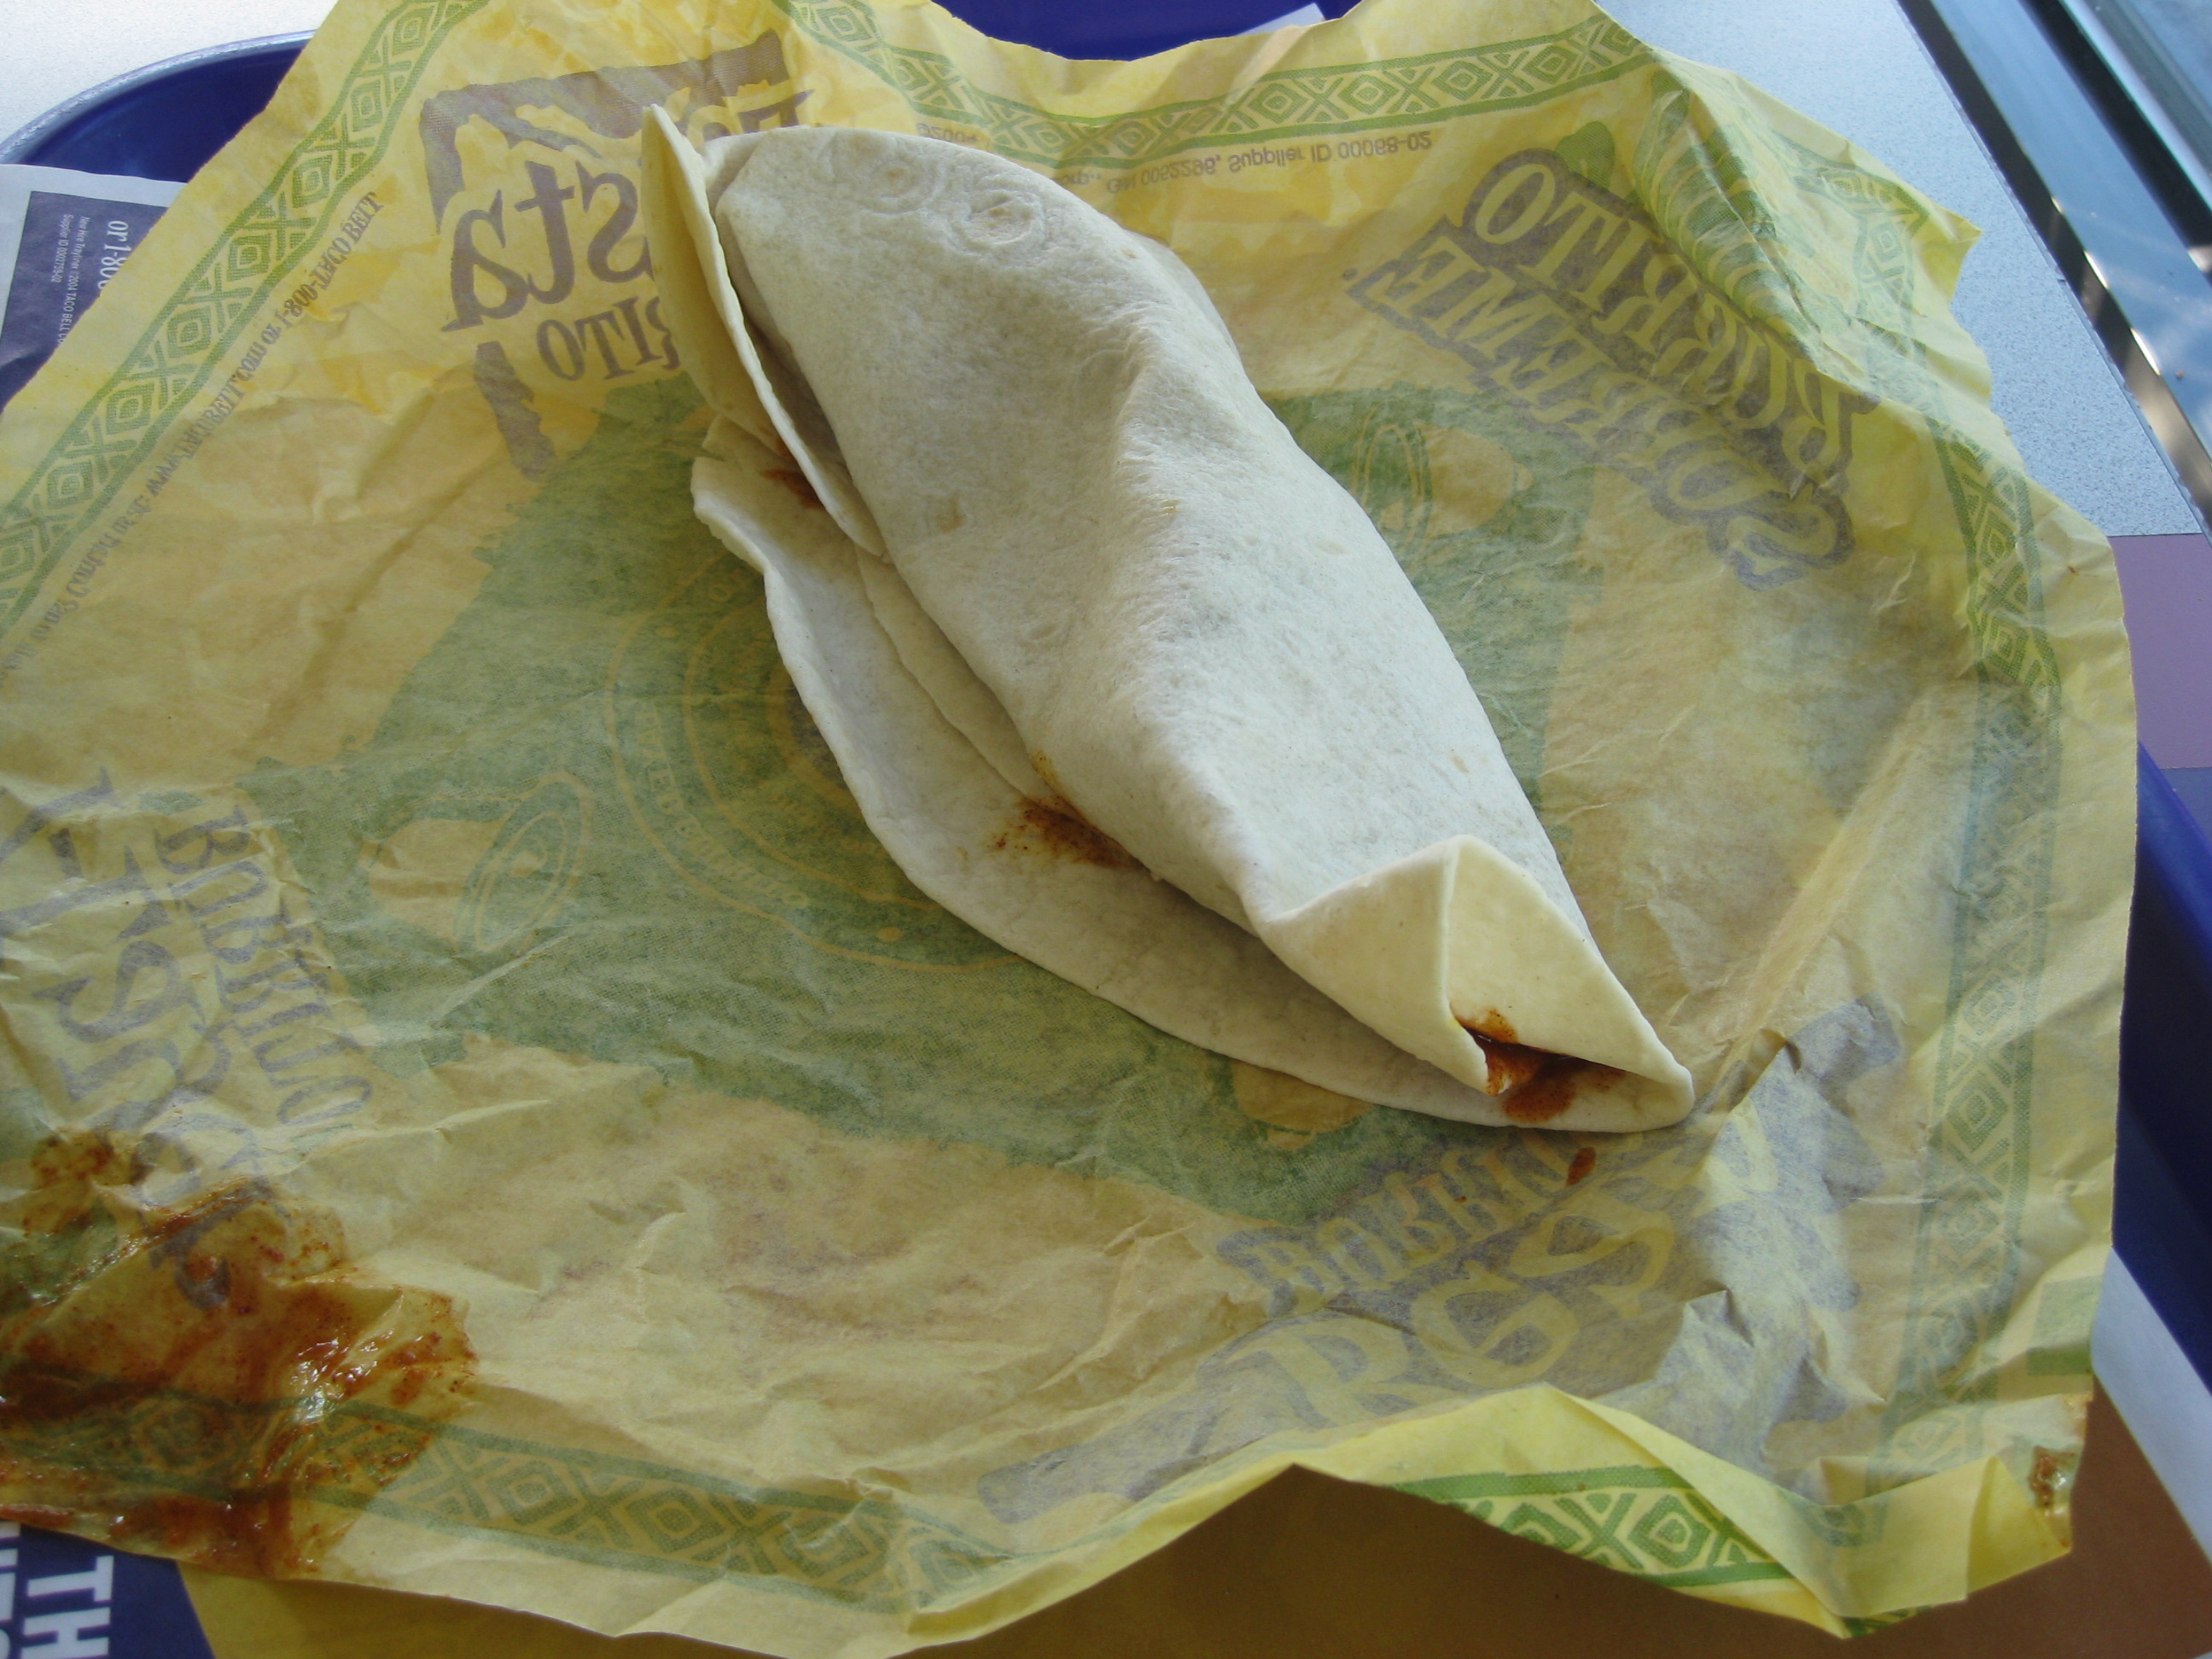burrito: (592, 70, 1804, 1194)
